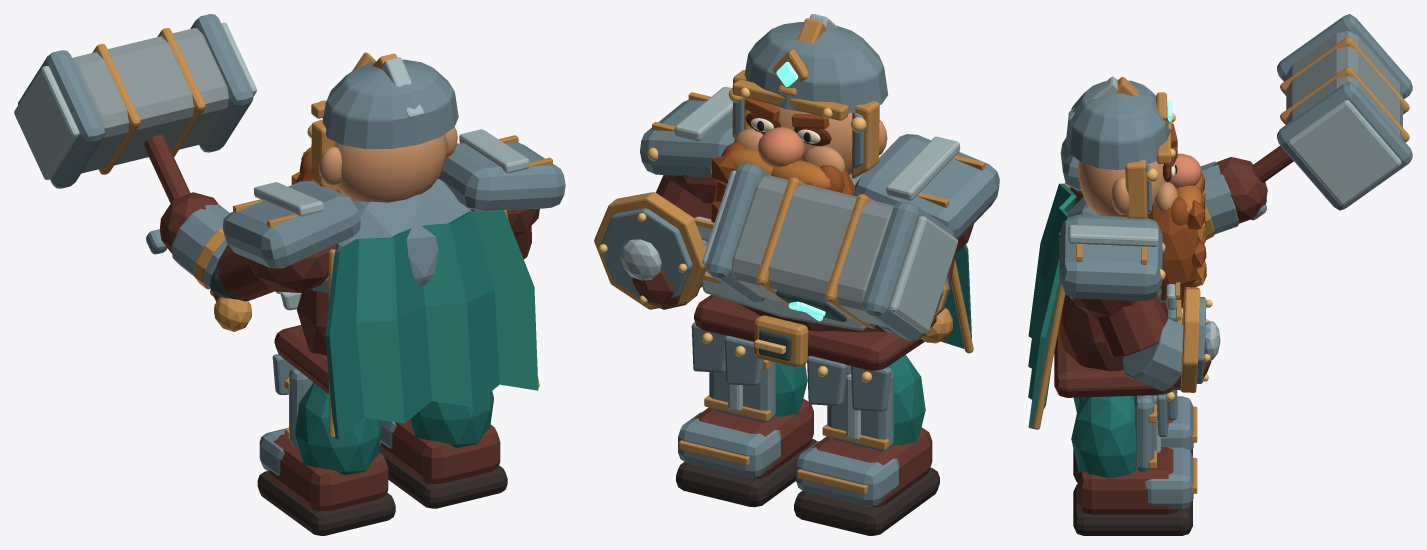
The model's file is dwarf-return.glb.
3 renders of one model, left to right at view 1: azimuth 30°, elevation 25°; view 2: azimuth 150°, elevation 25°; view 3: azimuth 270°, elevation 25°, orthographic. The views are drawn at different scales.
Visible parts, largest first — view 1: Bron surface 15, Bron surface 51, Bron surface 46, Bron surface 37, Bron surface 24, Bron surface 38, Bron surface 18, Bron surface 29, Bron surface 52, Bron surface 05, Bron surface 02, Bron surface 09 (+15 smaller); view 2: Bron surface 51, Bron surface 46, Bron surface 29, Bron surface 37, Bron surface 24, Bron surface 18, Bron surface 17, Bron surface 03, Bron surface 10, Bron surface 52, Bron surface 45, Bron surface 01 (+26 smaller); view 3: Bron surface 29, Bron surface 46, Bron surface 52, Bron surface 37, Bron surface 17, Bron surface 51, Bron surface 12, Bron surface 15, Bron surface 42, Bron surface 28, Bron surface 09, Bron surface 10 (+14 smaller).
Part boxes in pixels (x1,y1,x2,y2): Bron surface 15: [325, 210, 538, 439]; Bron surface 51: [72, 28, 228, 173]; Bron surface 46: [322, 59, 458, 148]; Bron surface 37: [18, 14, 253, 254]; Bron surface 24: [222, 181, 360, 268]; Bron surface 38: [318, 127, 457, 202]; Bron surface 18: [272, 179, 471, 394]; Bron surface 29: [438, 142, 565, 211]; Bron surface 52: [14, 22, 256, 179]; Bron surface 05: [295, 382, 382, 475]; Bron surface 02: [269, 434, 388, 511]; Bron surface 09: [381, 419, 500, 483]; Bron surface 51: [731, 175, 894, 327]; Bron surface 46: [734, 22, 888, 168]; Bron surface 29: [600, 100, 734, 298]; Bron surface 37: [706, 163, 954, 340]; Bron surface 24: [854, 134, 999, 239]; Bron surface 18: [691, 173, 891, 411]; Bron surface 17: [694, 295, 924, 370]; Bron surface 03: [796, 365, 899, 506]; Bron surface 10: [678, 361, 781, 477]; Bron surface 52: [702, 170, 957, 333]; Bron surface 45: [732, 18, 879, 178]; Bron surface 01: [794, 467, 939, 535]; Bron surface 29: [1059, 215, 1206, 391]; Bron surface 46: [1065, 79, 1172, 213]; Bron surface 52: [1288, 99, 1401, 205]; Bron surface 37: [1251, 14, 1412, 220]; Bron surface 17: [1054, 295, 1171, 397]; Bron surface 51: [1286, 30, 1402, 138]; Bron surface 12: [1071, 396, 1136, 478]; Bron surface 15: [1028, 183, 1076, 428]; Bron surface 42: [1147, 123, 1206, 308]; Bron surface 28: [1072, 293, 1211, 390]; Bron surface 09: [1077, 447, 1179, 514]; Bron surface 10: [1134, 395, 1193, 509].
Bounding box in the file's own units: 3.04 × 3.27 × 2.73.
